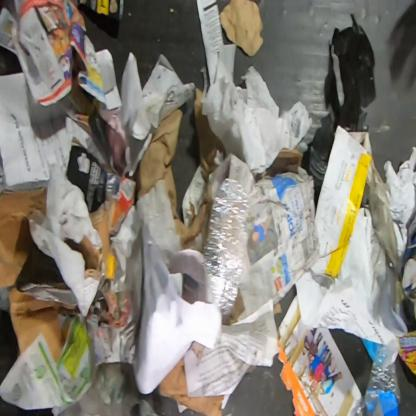cardboard: (0, 164, 117, 365), (8, 0, 122, 111), (276, 293, 363, 415), (158, 356, 227, 415), (66, 145, 122, 214)
rigid_plastic: (201, 178, 252, 315), (350, 345, 403, 415)
